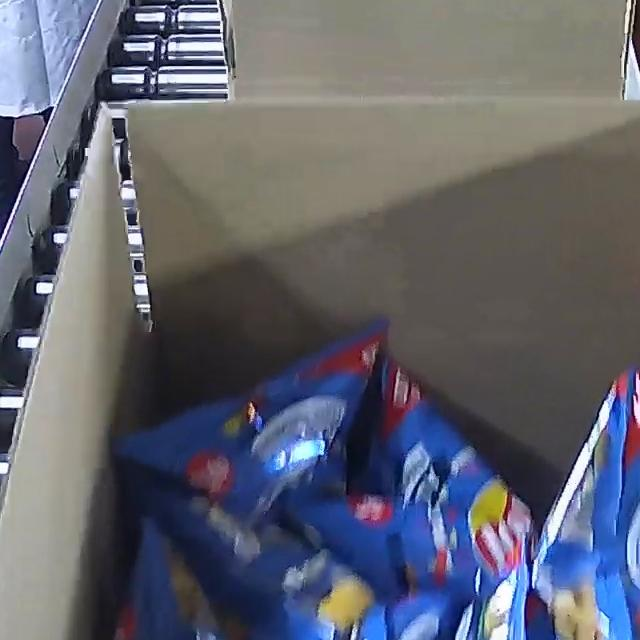paprika: (91, 319, 640, 640)
